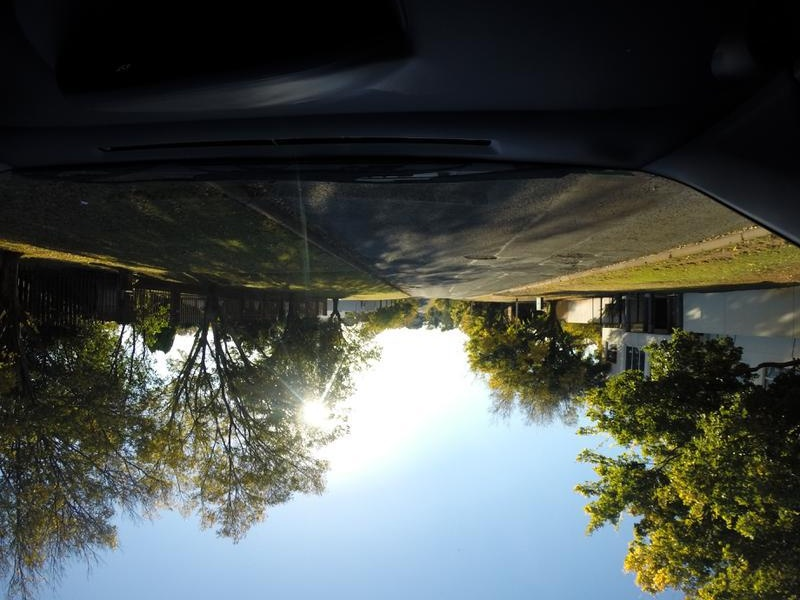pothole: (464, 250, 501, 266), (558, 249, 595, 260)
